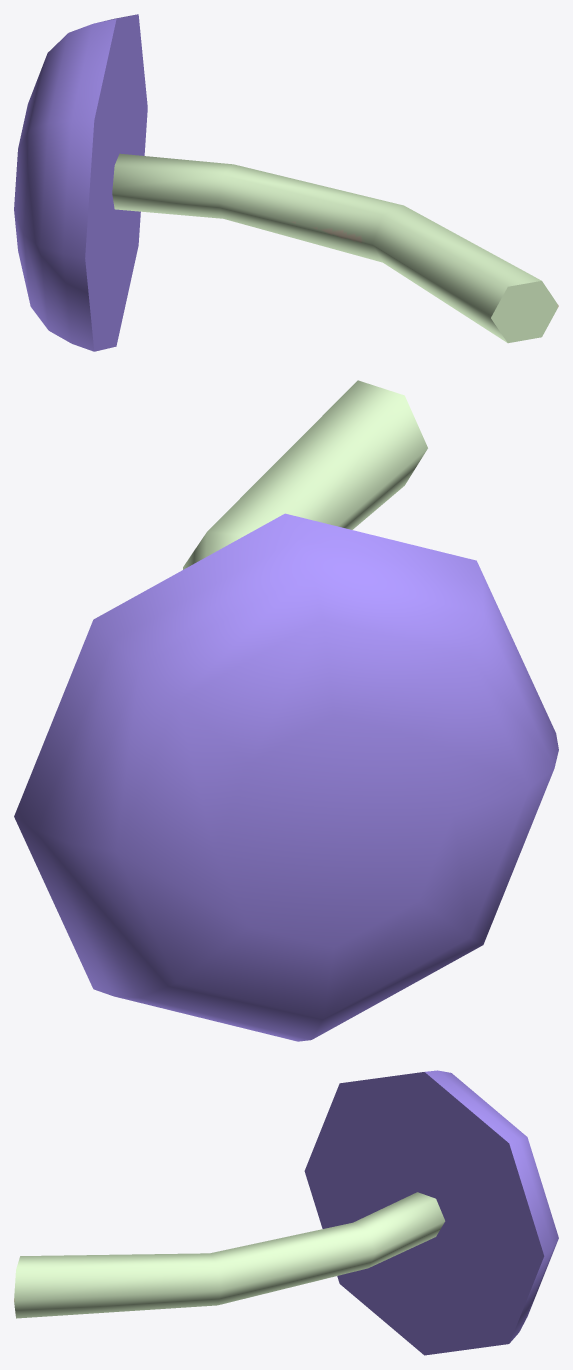
The model's file is Mushroom.FBX.
The picture shows the model from 3 angles, top to bottom: view 1: azimuth 30°, elevation 25°; view 2: azimuth 150°, elevation 25°; view 3: azimuth 270°, elevation 25°; orthographic projection. The views are drawn at different scales.
Parts seen in each view (by area): view 1: Line001; view 2: Line001; view 3: Line001.
Boxes of the visible parts, <box> form: Line001: <box>14,14,558,351</box>; Line001: <box>14,380,558,1041</box>; Line001: <box>14,1070,558,1355</box>.
Size of the model in its own units: 106 by 101 by 176.
